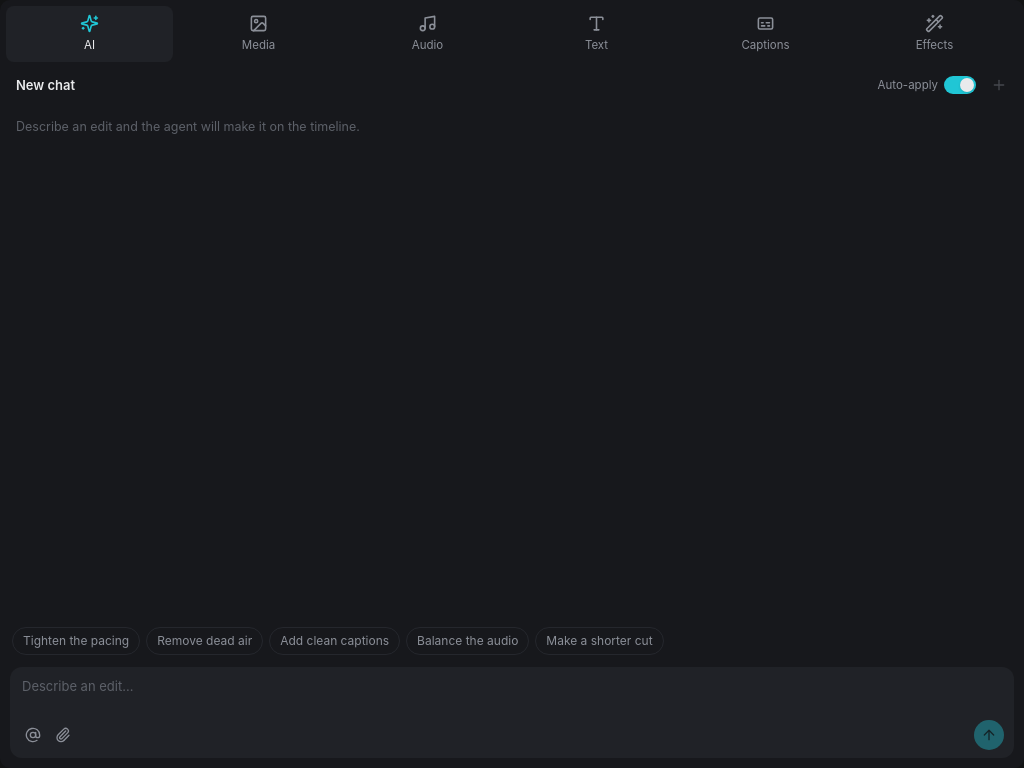
Test: LeftPanel › renders six tabs in order with AI active by default and switches tabs
Press the mouse on the tab "Captions" at x=766, y=34, box [682,6,849,62]
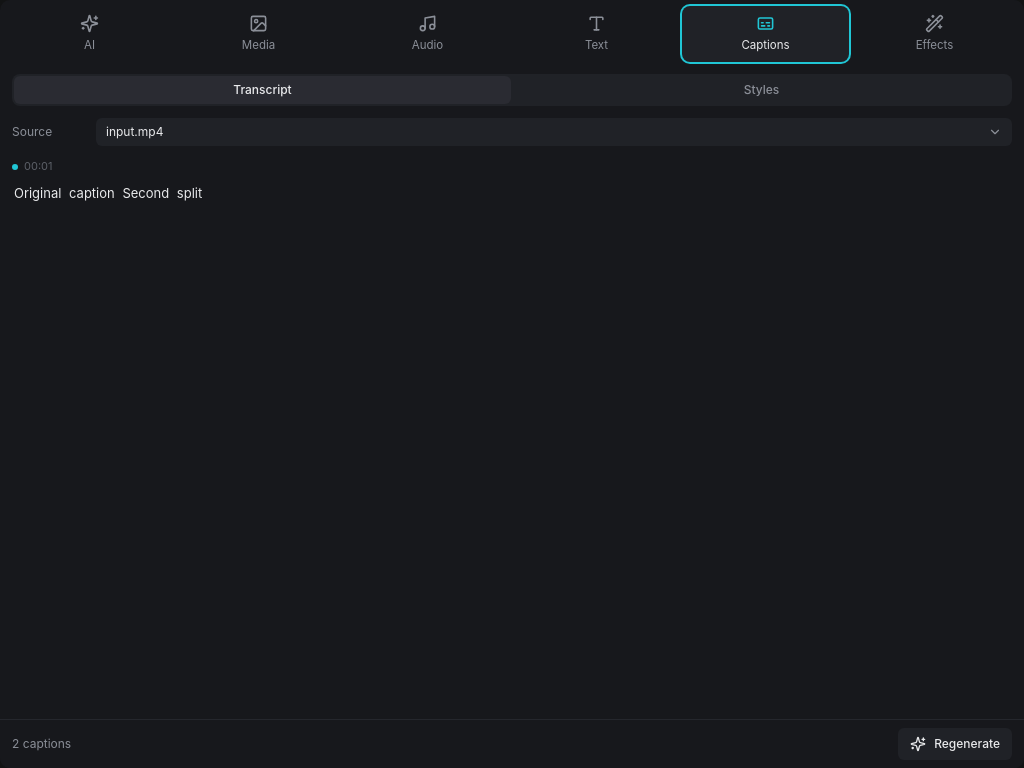
Result: the panel named "Captions" is shown
